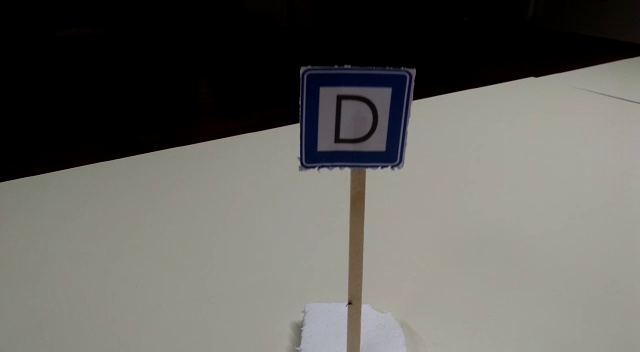durak: (302, 67, 411, 165)
